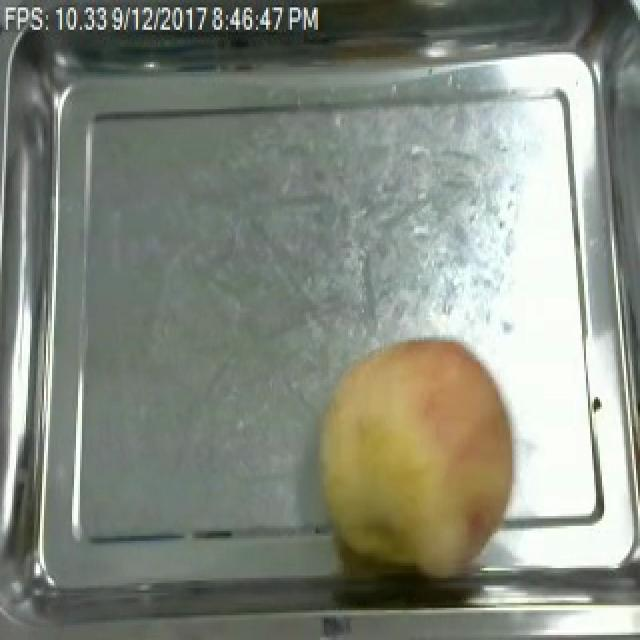Fruit: (300, 330, 526, 578)
